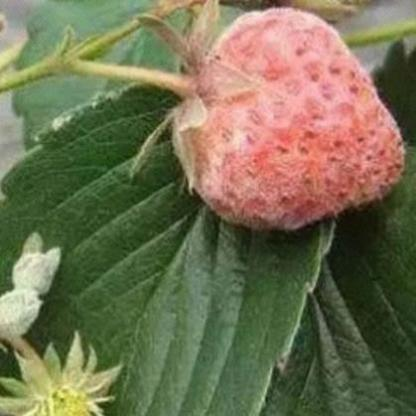Strawberry_Powdery_Mildew_Fruit: (158, 1, 406, 232)
